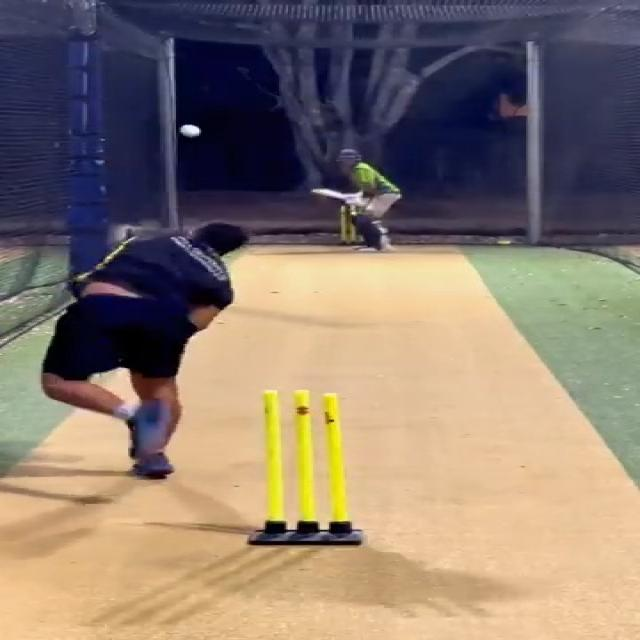ball: (178, 124, 203, 139)
stump: (247, 390, 366, 548)
